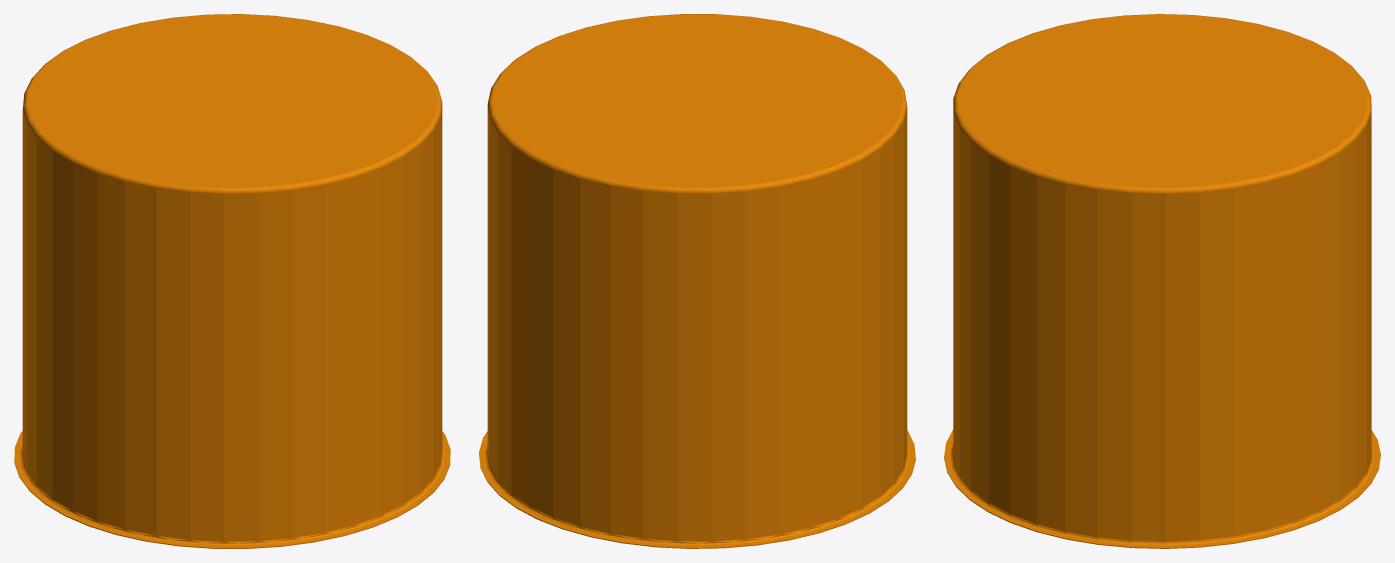
3 views of the same model, side by side, from view 1: azimuth 30°, elevation 25°; view 2: azimuth 150°, elevation 25°; view 3: azimuth 270°, elevation 25° (orthographic).
Visible parts, largest first — view 1: 锅边, 锅底; view 2: 锅边, 锅底; view 3: 锅边, 锅底.
Part boxes in pixels (x1=…): 锅边: x1=14, y1=102, x2=450, y2=548; 锅底: x1=23, y1=14, x2=441, y2=193; 锅边: x1=479, y1=106, x2=915, y2=548; 锅底: x1=487, y1=14, x2=907, y2=193; 锅边: x1=944, y1=108, x2=1380, y2=548; 锅底: x1=953, y1=14, x2=1371, y2=193.
Size of the model in its own units: 13.19 by 11.84 by 13.19.
